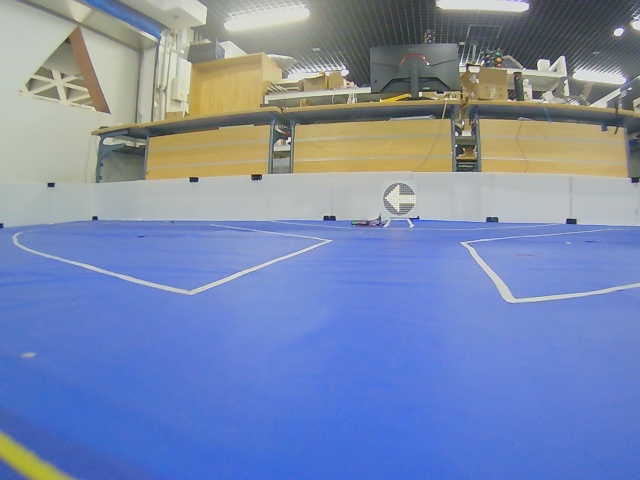left_yellow: (383, 183, 416, 216)
